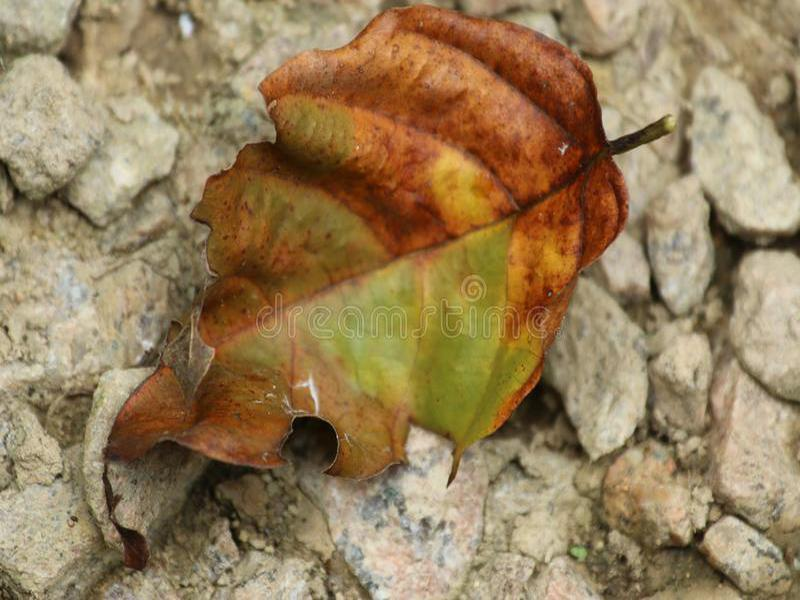leaf: (97, 4, 681, 492)
